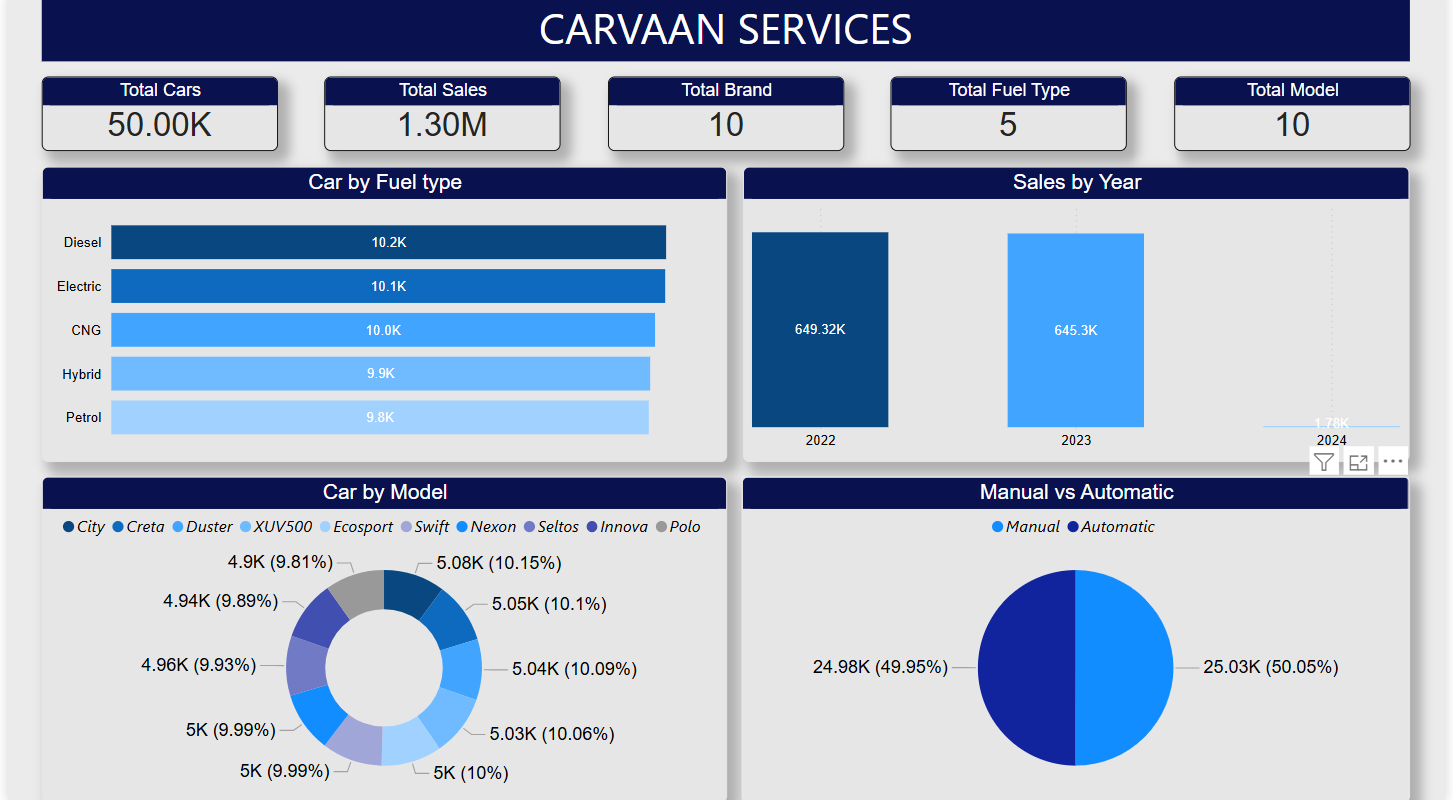

Layout of this report page (visuals, bound fields, positions):
{"tool":"powerbi","page":{"name":"Page 1","canvas":[1280,720],"ordinal":0},"visuals":[{"type":"card","title":"Total Cars","fields":{"Values":["Count(MASTER_CAR_DATA.Car_ID)"]},"box":[30,73.3,210,66.7],"z":0,"group":"g1"},{"type":"card","title":"Total Sales","fields":{"Values":["Sum(MASTER_CAR_DATA.Sale_Price_Lakh)"]},"box":[282.1,73.3,210,66.7],"z":1000,"group":"g1"},{"type":"card","title":"Total Brand","fields":{"Values":["Count(MASTER_CAR_DATA.Brand)"]},"box":[534.2,73.3,210,66.7],"z":2000,"group":"g1"},{"type":"card","title":"Total Fuel Type","fields":{"Values":["Count(MASTER_CAR_DATA.Fuel_Type)"]},"box":[786.3,73.3,210,66.7],"z":3000,"group":"g1"},{"type":"card","title":"Total Model","fields":{"Values":["Count(MASTER_CAR_DATA.Model)"]},"box":[1038.3,73.3,210,66.7],"z":4000,"group":"g1"},{"type":"barChart","title":"Car by Fuel type","fields":{"Category":["MASTER_CAR_DATA.Fuel_Type"],"Y":["Count(MASTER_CAR_DATA.Car_ID)"]},"box":[30,153.3,610,263.3],"z":5000},{"type":"columnChart","title":"Sales by Year","fields":{"Y":["Sum(MASTER_CAR_DATA.Sale_Price_Lakh)"],"Category":["MASTER_CAR_DATA.Sale_Date.Variation.Date Hierarchy.Year"]},"box":[655,153.3,593.3,263.3],"z":6000},{"type":"donutChart","title":"Car by Model","fields":{"Category":["MASTER_CAR_DATA.Model"],"Y":["Count(MASTER_CAR_DATA.Car_ID)"]},"box":[30,430,610,290],"z":7000},{"type":"pieChart","title":"Manual vs Automatic","fields":{"Category":["MASTER_CAR_DATA.Transmission"],"Y":["Count(MASTER_CAR_DATA.Car_ID)"]},"box":[653.3,430,595,290],"z":7001},{"type":"group","id":"g1","title":"Group 1","box":[30,73.3,1218.3,66.7],"z":7002},{"type":"textbox","box":[30,0,1218.3,60],"z":7003}]}

Visuals, with their boxes in screenshot pixels (x1, y1, x2, y2), scaled from the page's 1280x720 canvas onto the 1453x800 screenshot:
"Total Cars" card: bbox=[34, 81, 272, 156]
"Total Sales" card: bbox=[320, 81, 559, 156]
"Total Brand" card: bbox=[606, 81, 845, 156]
"Total Fuel Type" card: bbox=[893, 81, 1131, 156]
"Total Model" card: bbox=[1179, 81, 1417, 156]
"Car by Fuel type" barChart: bbox=[34, 170, 726, 463]
"Sales by Year" columnChart: bbox=[744, 170, 1417, 463]
"Car by Model" donutChart: bbox=[34, 478, 726, 799]
"Manual vs Automatic" pieChart: bbox=[742, 478, 1417, 799]
"Group 1" group: bbox=[34, 81, 1417, 156]
textbox: bbox=[34, 0, 1417, 67]
